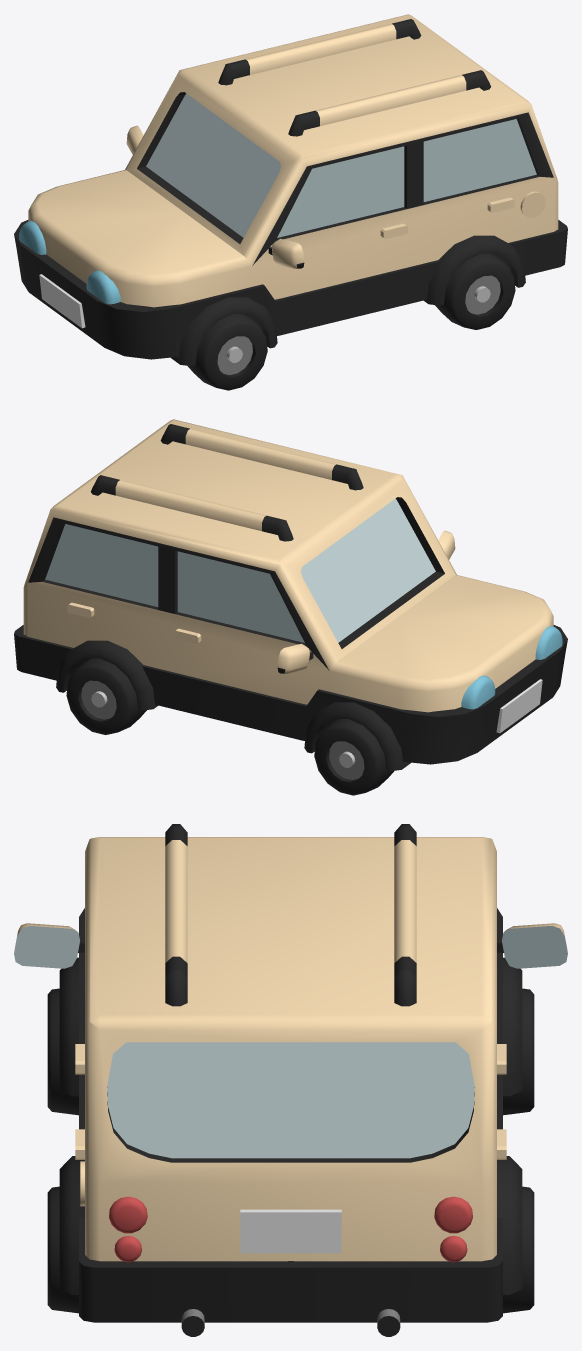
Rendered from Car.fbx.
The picture shows the model from 3 angles, top to bottom: view 1: azimuth 30°, elevation 25°; view 2: azimuth 150°, elevation 25°; view 3: azimuth 270°, elevation 25°; orthographic projection. The views are drawn at different scales.
Parts seen in each view (by area): view 1: Car; view 2: Car; view 3: Car.
Part boxes in pixels (x1=…): Car: x1=14, y1=14, x2=567, y2=390; Car: x1=14, y1=419, x2=567, y2=795; Car: x1=14, y1=824, x2=567, y2=1336.
Size of the model in its own units: 857 by 402 by 552.
